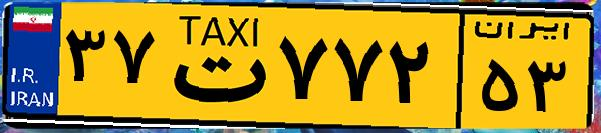2: (385, 28, 445, 110)
3: (57, 26, 110, 100), (525, 38, 570, 115)
5: (475, 38, 525, 113)
7: (270, 28, 330, 110), (330, 28, 385, 110), (110, 28, 158, 98)
ت: (158, 12, 270, 120)
